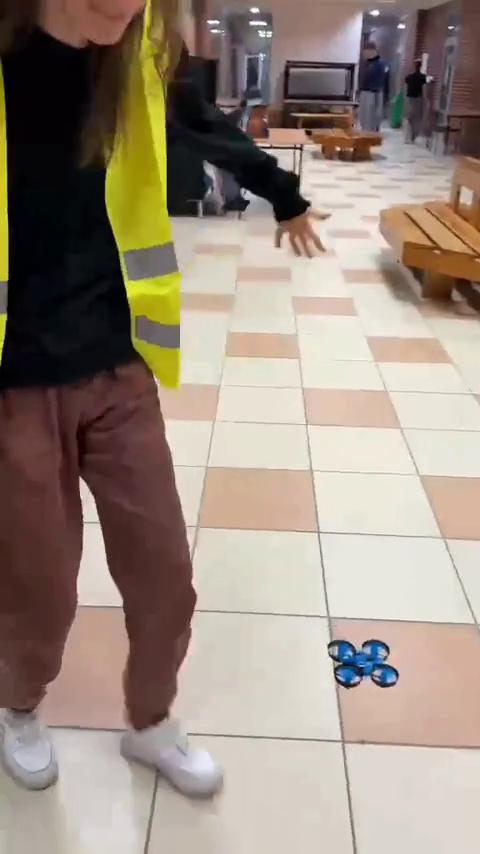drone: (319, 632, 399, 692)
no vest: (352, 38, 389, 147), (399, 58, 426, 145)
vest: (0, 4, 234, 800)
